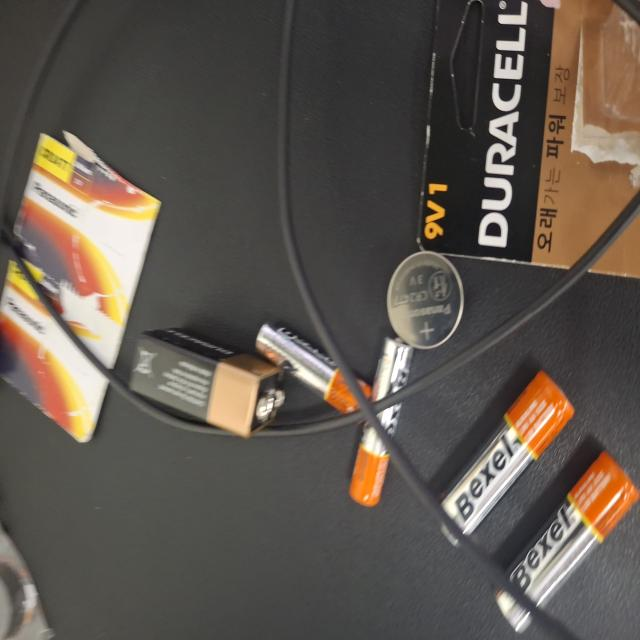9V: (247, 472, 326, 640)
AA: (338, 1, 476, 188), (278, 86, 407, 268)
AAA: (252, 306, 376, 386), (243, 370, 312, 508)
COIN: (187, 234, 263, 334)
